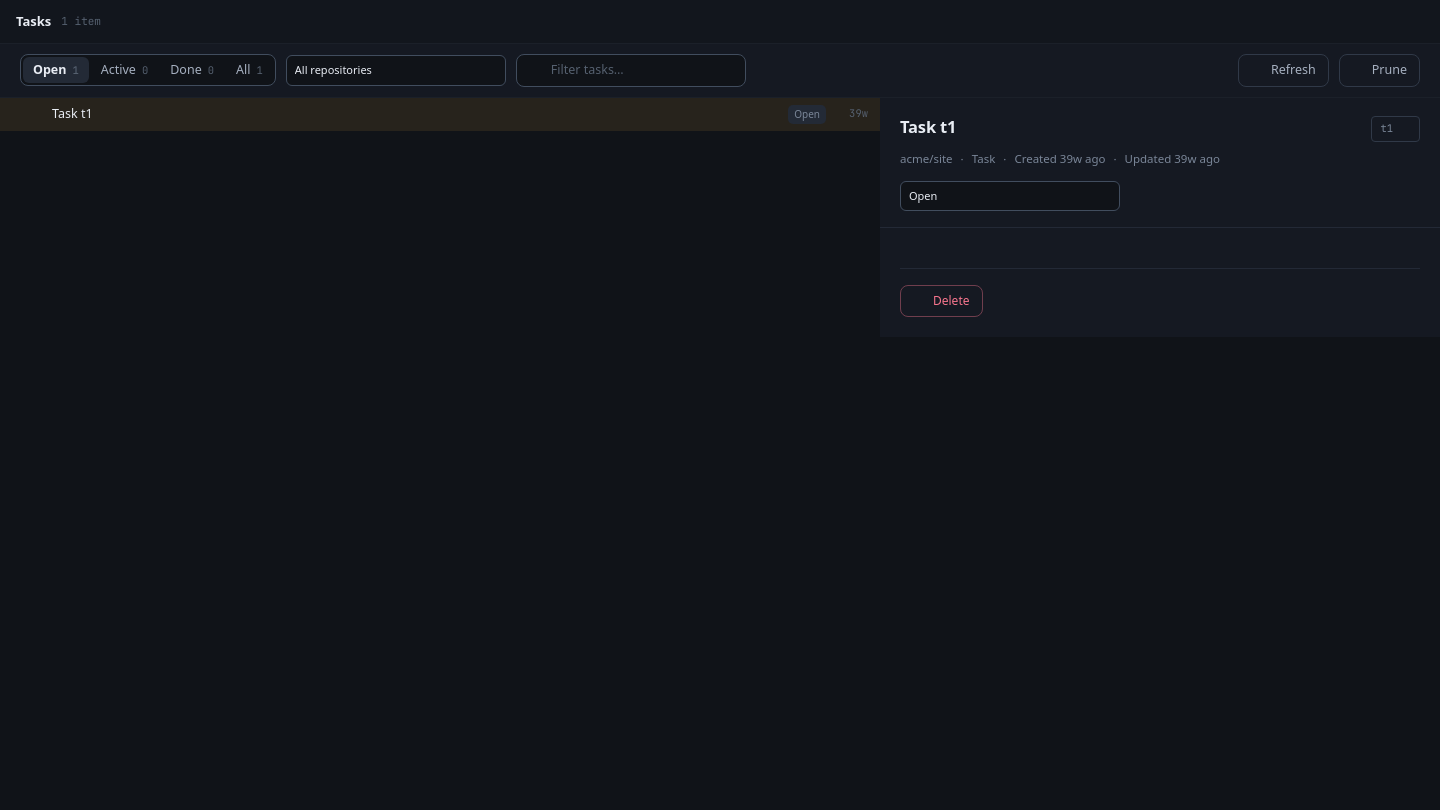
Test: TasksView › ignores y while a confirm dialog is stacked on top
The width and height of the screenshot is (1440, 810).
Click the button with test id "task-delete" at (941, 301), box left=900, top=285, right=982, bottom=317
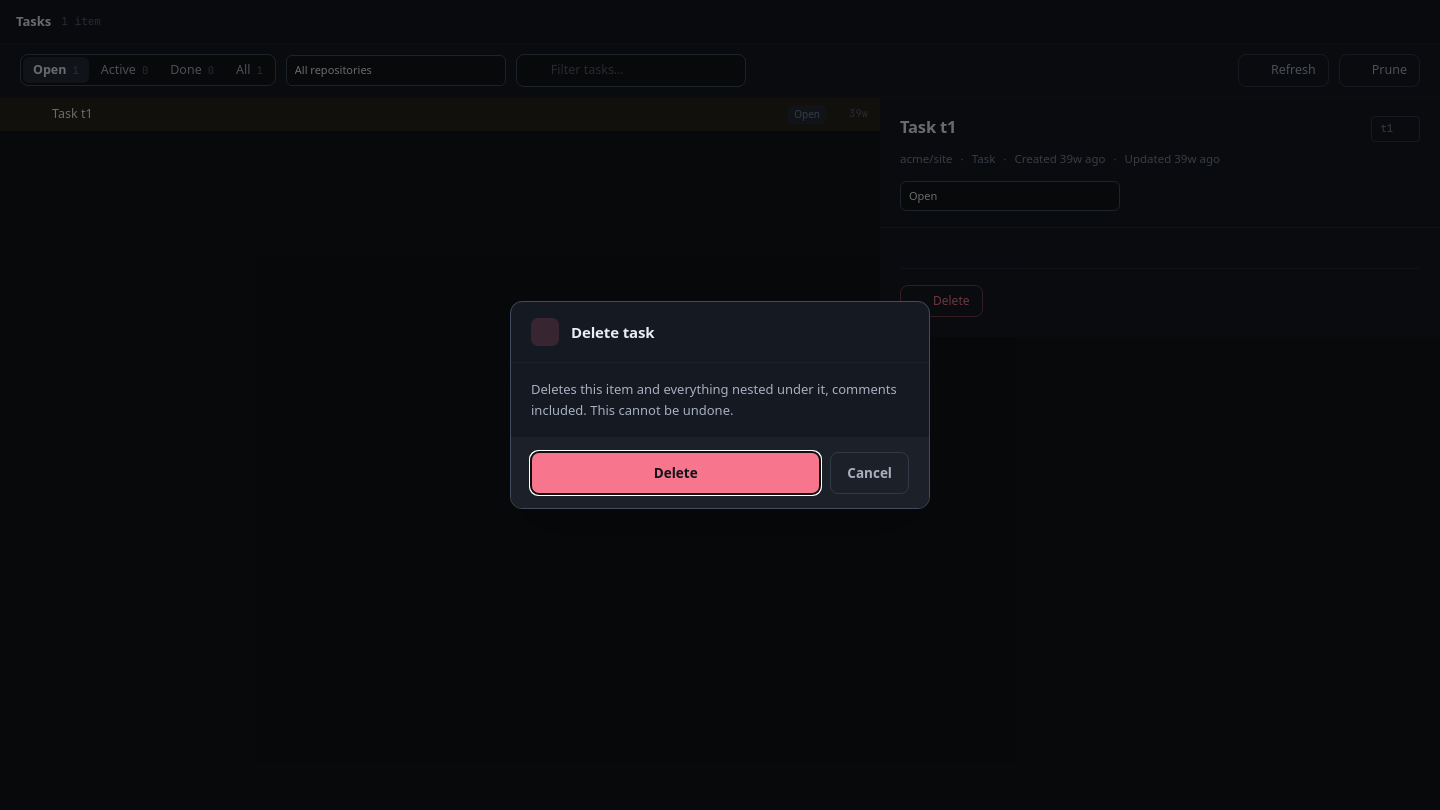
Now the dialog with test id "task-delete-confirm" is shown, box left=510, top=301, right=930, bottom=509
